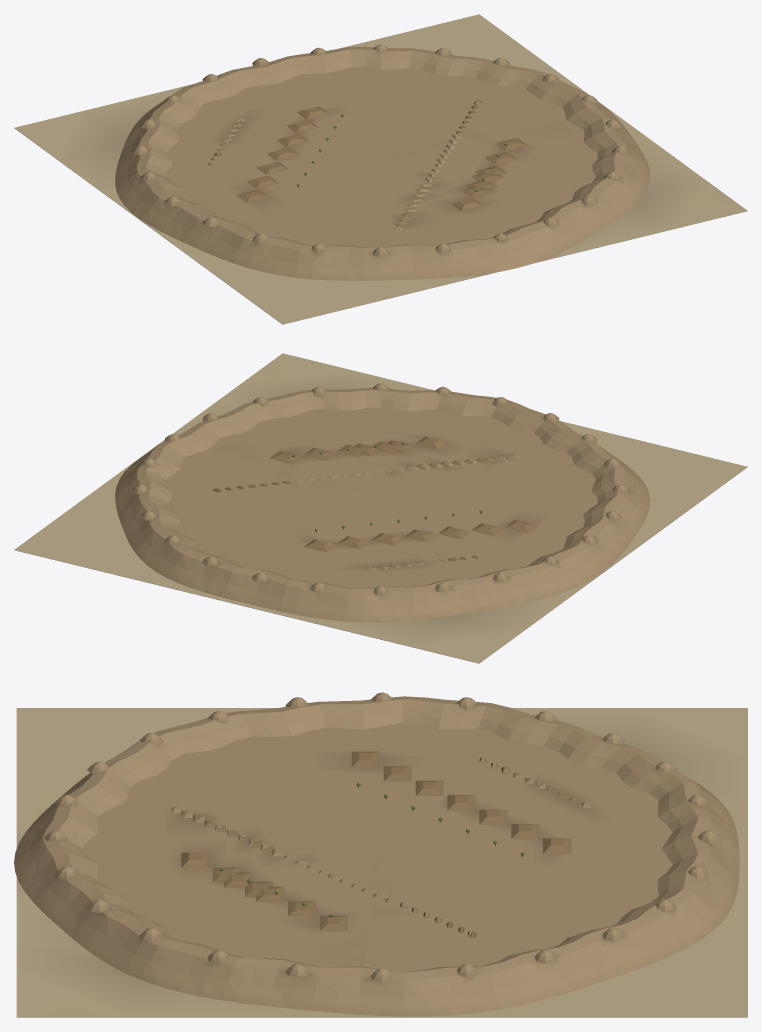
File: erk-kala-ruin.glb
The picture shows the model from 3 angles, top to bottom: view 1: azimuth 30°, elevation 25°; view 2: azimuth 150°, elevation 25°; view 3: azimuth 270°, elevation 25°; orthographic projection. The views are drawn at different scales.
Parts seen in each view (by area): view 1: p0_rampart, p1_ruins; view 2: p0_rampart, p1_ruins; view 3: p0_rampart, p1_ruins.
Part boxes in pixels (x1,y1,x2,y2): p0_rampart: [14, 14, 747, 324]; p1_ruins: [132, 44, 629, 256]; p0_rampart: [14, 353, 747, 663]; p1_ruins: [132, 383, 629, 595]; p0_rampart: [14, 696, 747, 1017]; p1_ruins: [44, 692, 720, 981].
Size of the model in its own units: 520 by 25.01 by 522.
